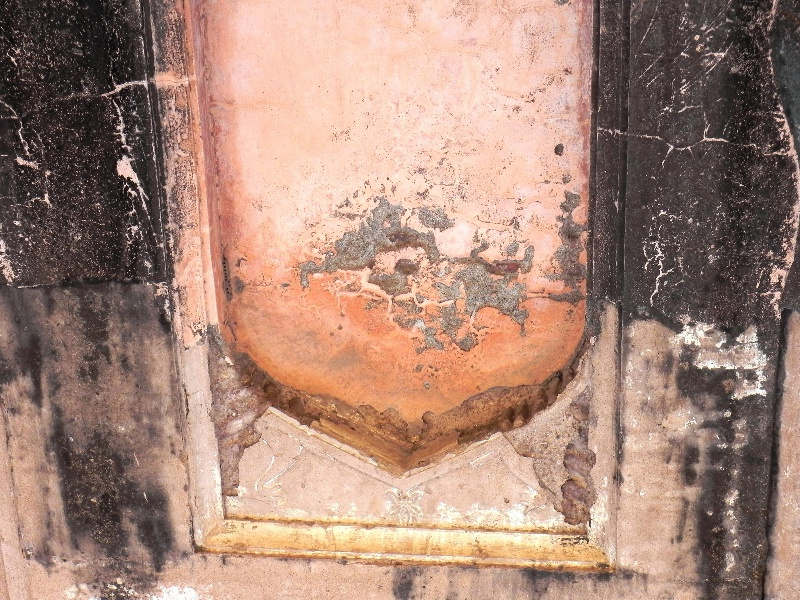Spalling: (464, 337, 594, 458)
